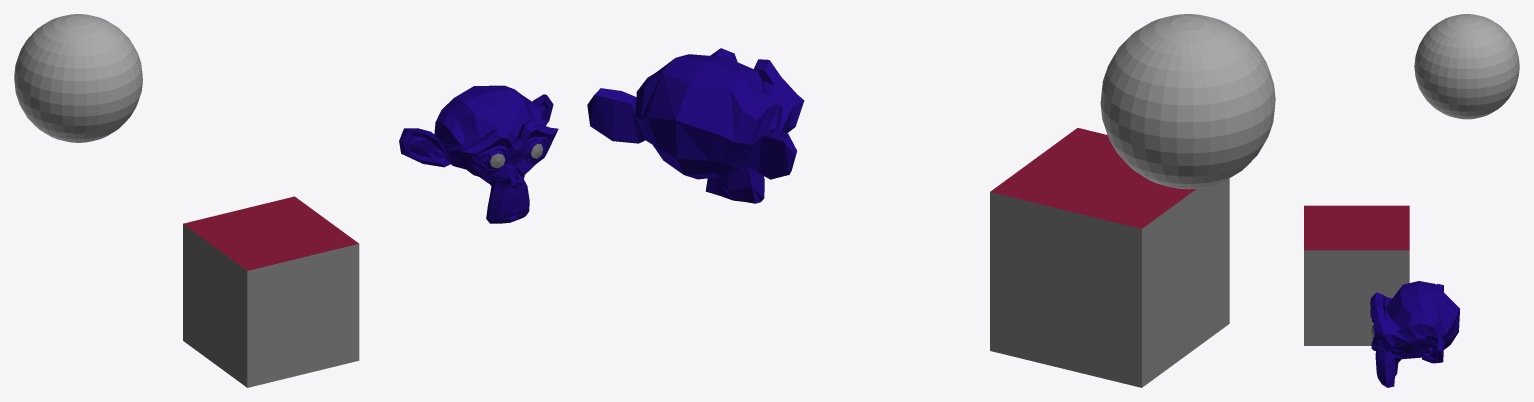
Rendered from testFile.obj.
The picture shows the model from 3 angles, left to right: view 1: azimuth 30°, elevation 25°; view 2: azimuth 150°, elevation 25°; view 3: azimuth 270°, elevation 25°; orthographic projection. The views are drawn at different scales.
Visible parts, largest first — view 1: cube, Sphere_Sphere.001, Suzanne_Suzanne.003; view 2: cube, Sphere_Sphere.001, Suzanne_Suzanne.003; view 3: cube, Sphere_Sphere.001, Suzanne_Suzanne.003.
Part boxes in pixels (box(x1,y1,x2,y2)): cube: box(183, 196, 359, 387); Sphere_Sphere.001: box(14, 14, 142, 142); Suzanne_Suzanne.003: box(399, 85, 558, 223); cube: box(990, 128, 1229, 387); Sphere_Sphere.001: box(1100, 14, 1275, 189); Suzanne_Suzanne.003: box(587, 48, 804, 203); cube: box(1304, 205, 1409, 345); Sphere_Sphere.001: box(1414, 14, 1519, 119); Suzanne_Suzanne.003: box(1370, 281, 1459, 387).
Size of the model in its own units: 9.19 by 5.33 by 4.09.
